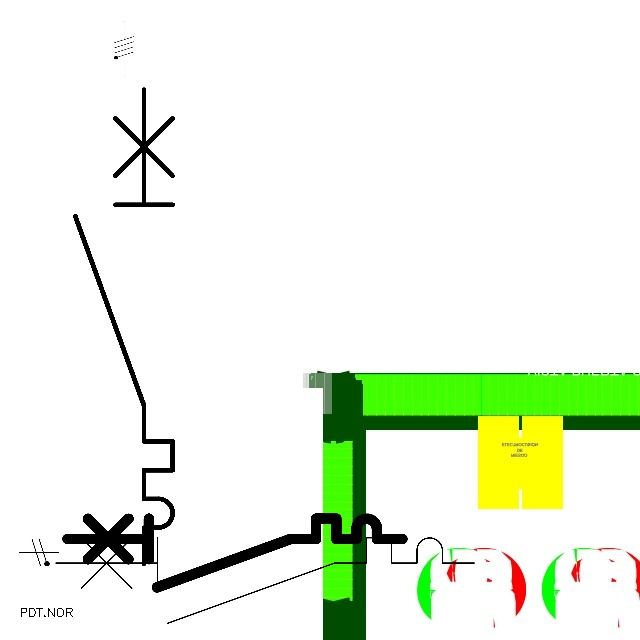interruptor_termomagnetico: (63, 77, 185, 576), (45, 527, 485, 634), (58, 510, 410, 596)
